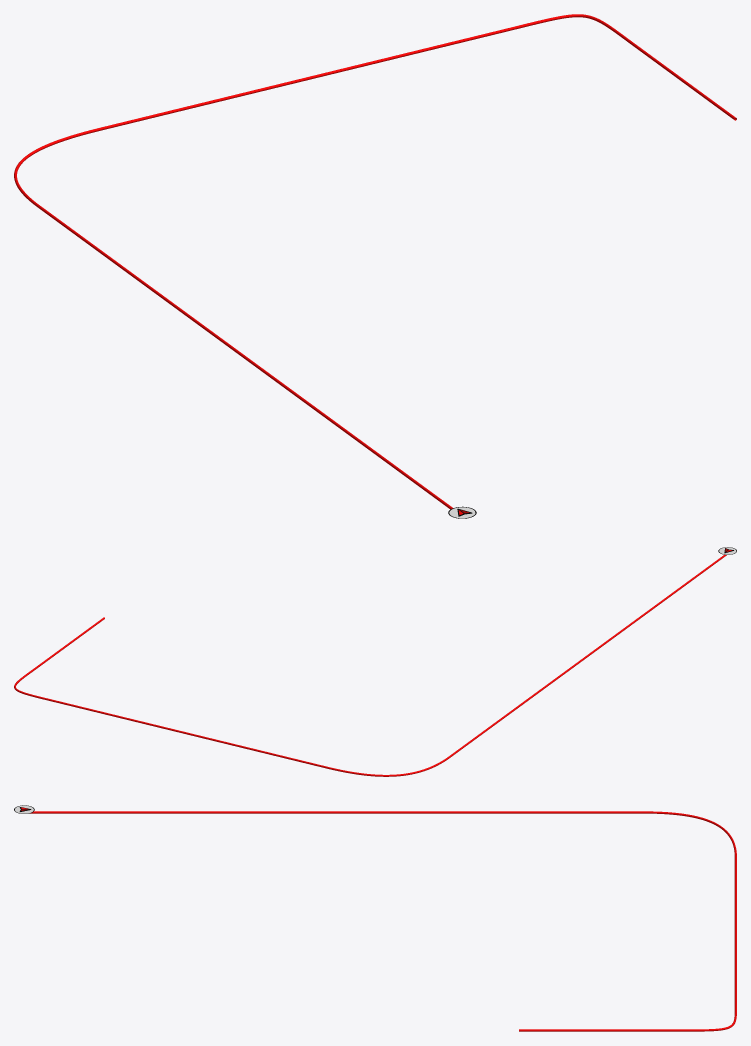
File: route_9444af9c-1f02-4cef-85d3-9011890aed75_en_single.glb
The picture shows the model from 3 angles, top to bottom: view 1: azimuth 30°, elevation 25°; view 2: azimuth 150°, elevation 25°; view 3: azimuth 270°, elevation 25°; orthographic projection. The views are drawn at different scales.
Visible parts, largest first — view 1: Station 1; view 2: Station 1; view 3: Station 1.
Boxes of the visible parts, box(x1,y1,x2,y2) form: Station 1: box(14, 14, 736, 509); Station 1: box(14, 554, 726, 776); Station 1: box(30, 811, 736, 1031).
Size of the model in its own units: 10.39 by 0.091 by 14.25.
